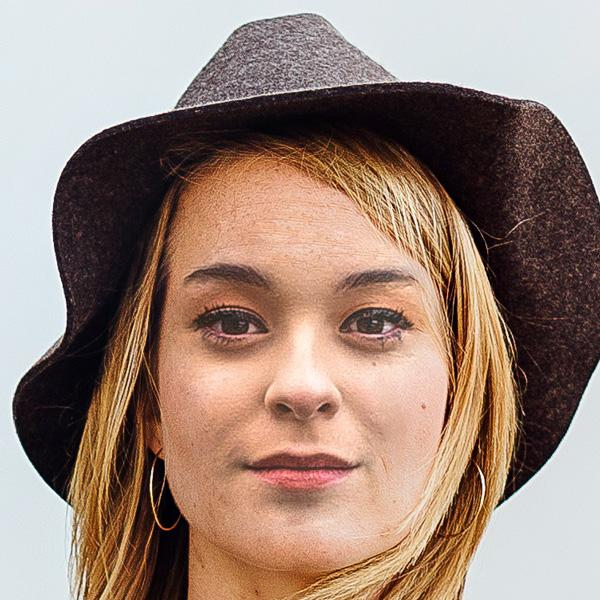Eyes: (324, 294, 418, 351), (184, 295, 276, 349)
